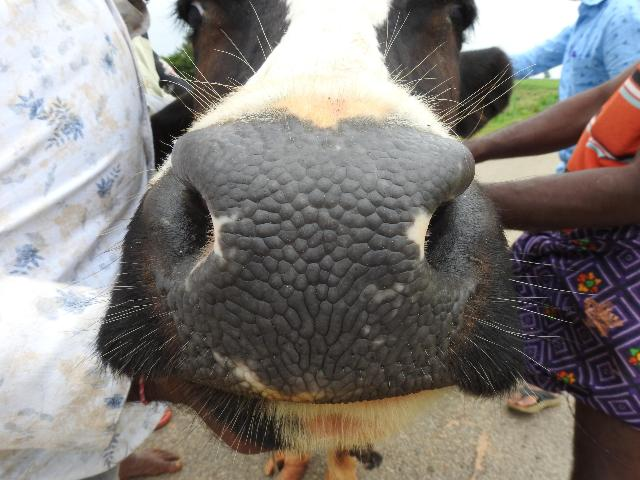Muzzle: (179, 137, 451, 396)
